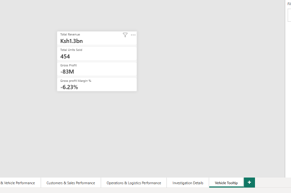

This screenshot's page, from the dashboard's own definition file:
{"tool":"powerbi","page":{"name":"Vehicle Tooltip","canvas":[400,300],"ordinal":5},"visuals":[{"type":"cardVisual","fields":{"Data":["Fact_Sales.Total Revenue","Fact_Sales.Total Units Sold","Fact_Sales.Gross Profit","Fact_Sales.Gross profit Margin %"]},"box":[0,0,400,300],"z":0}]}

Visuals, with their boxes on the page's 400x300 design canvas (x1, y1, x2, y2). These are canvas units, not pixel positions in the 291x193 screenshot, which may show the page scaled, cropped or inside an application window:
cardVisual - Fact_Sales.Total Revenue x Fact_Sales.Total Units Sold: x1=0, y1=0, x2=400, y2=300
